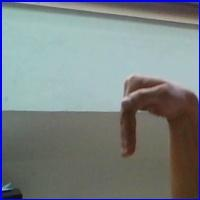del: (112, 69, 191, 165)
